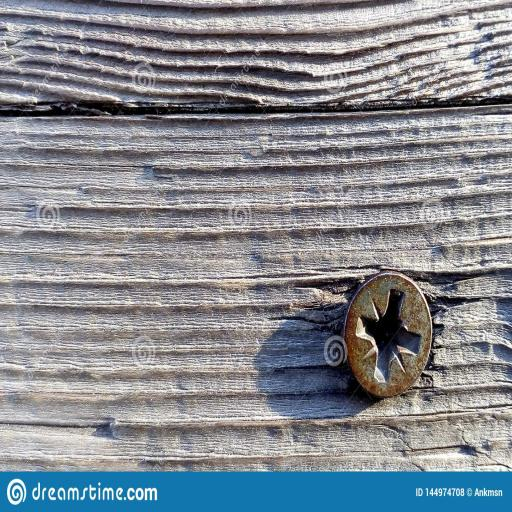Phillips: (342, 270, 434, 401)
